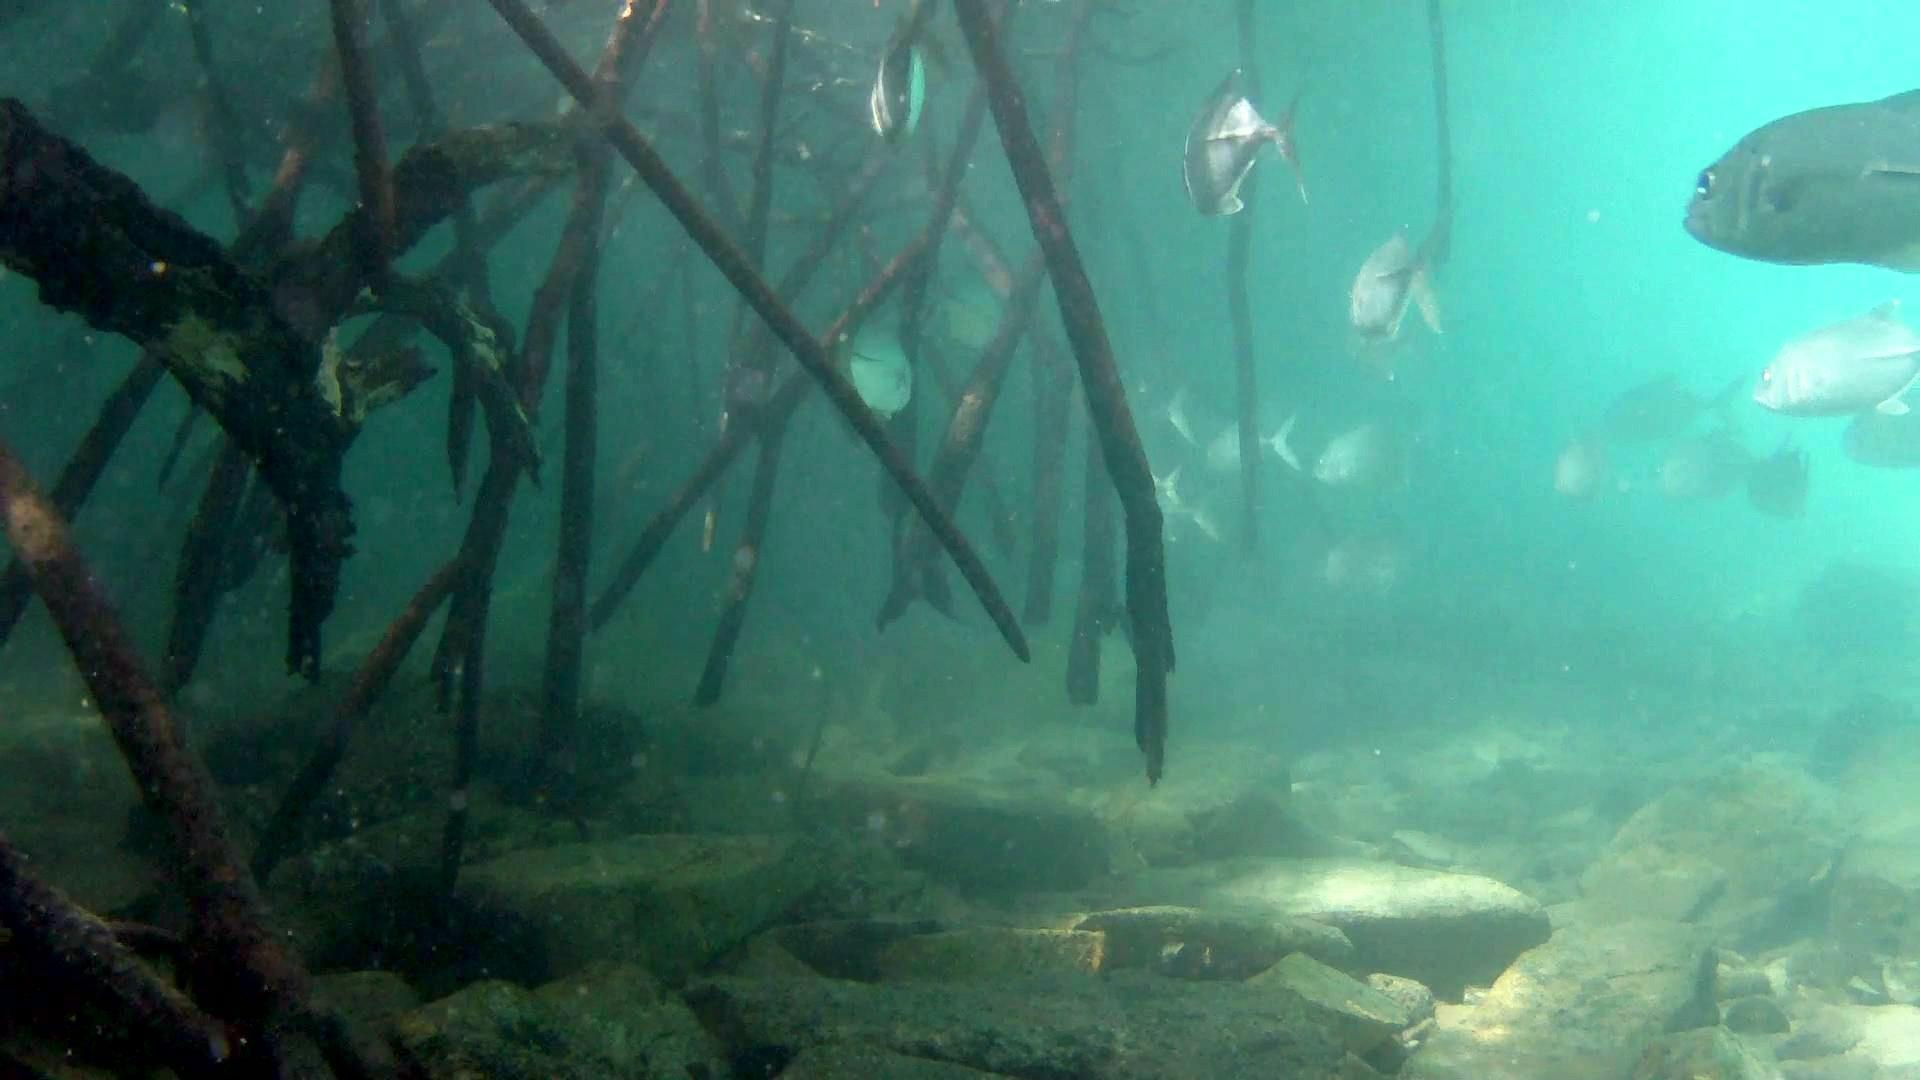caranx: (1673, 76, 1920, 286), (1175, 58, 1325, 224)
